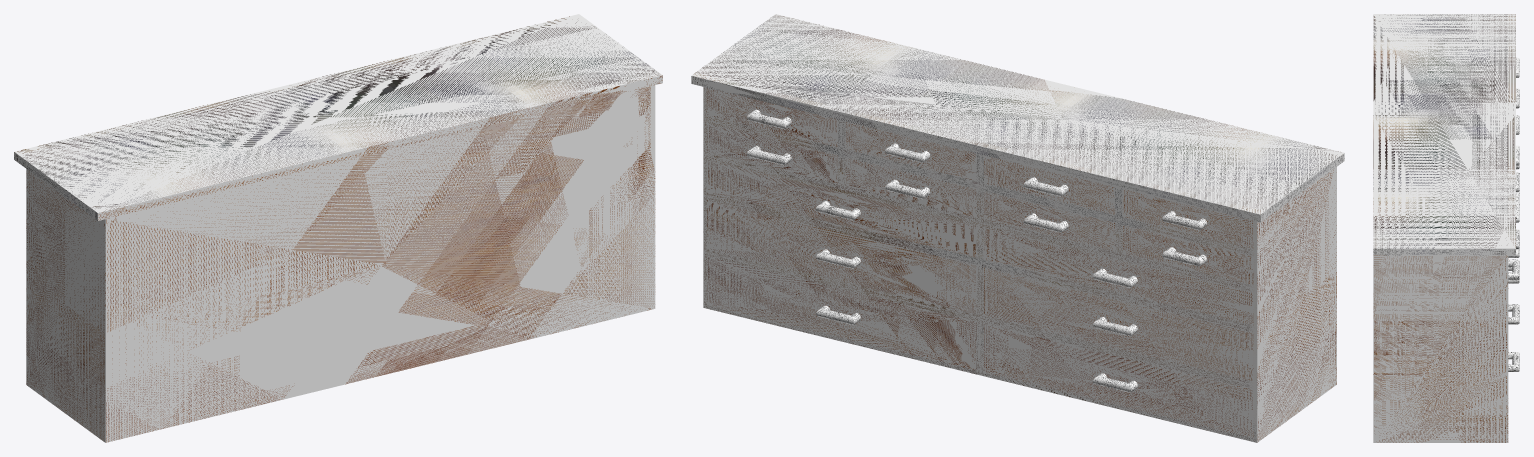
The picture shows the model from 3 angles, left to right: view 1: azimuth 30°, elevation 25°; view 2: azimuth 150°, elevation 25°; view 3: azimuth 270°, elevation 25°; orthographic projection. The views are drawn at different scales.
Parts seen in each view (by area): view 1: mesh1_mesh1-geometry; view 2: mesh1_mesh1-geometry; view 3: mesh1_mesh1-geometry.
Part boxes in pixels (<box>): mesh1_mesh1-geometry: <box>14,14,662,442</box>; mesh1_mesh1-geometry: <box>691,14,1344,442</box>; mesh1_mesh1-geometry: <box>1373,14,1519,442</box>.
Size of the model in its own units: 0.9042 by 0.3544 by 0.2383.
